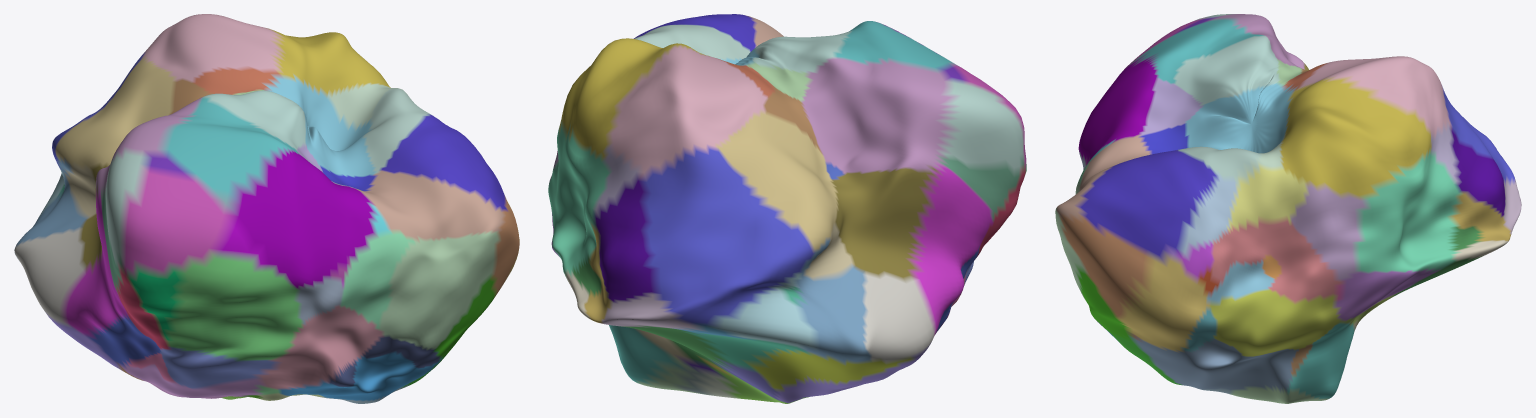
Rendered from asteroid_04.fbx.
3 renders of one model, left to right at view 1: azimuth 30°, elevation 25°; view 2: azimuth 150°, elevation 25°; view 3: azimuth 270°, elevation 25°, orthographic. The views are drawn at different scales.
Visible parts, largest first — view 1: Rock; view 2: Rock; view 3: Rock.
Boxes of the visible parts, bbox=[...] form: Rock: bbox=[14, 14, 519, 403]; Rock: bbox=[548, 14, 1026, 403]; Rock: bbox=[1055, 14, 1521, 403].
Bounding box in the file's own units: 223 × 181 × 244.
